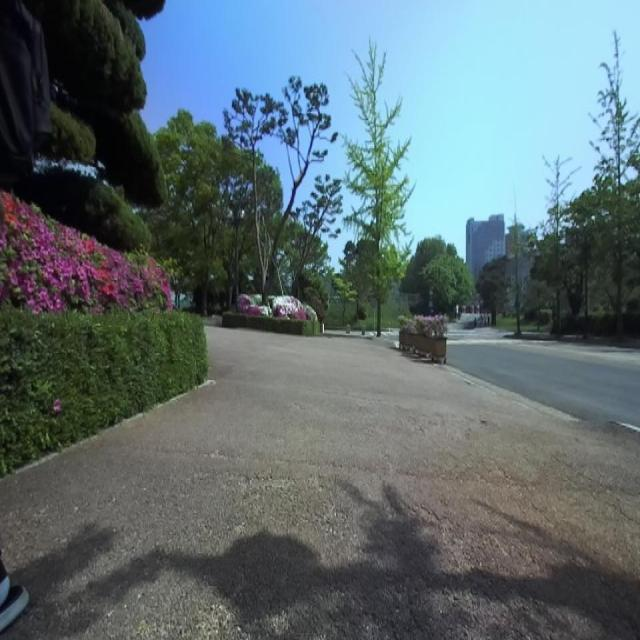sidewalk: (0, 326, 640, 639)
